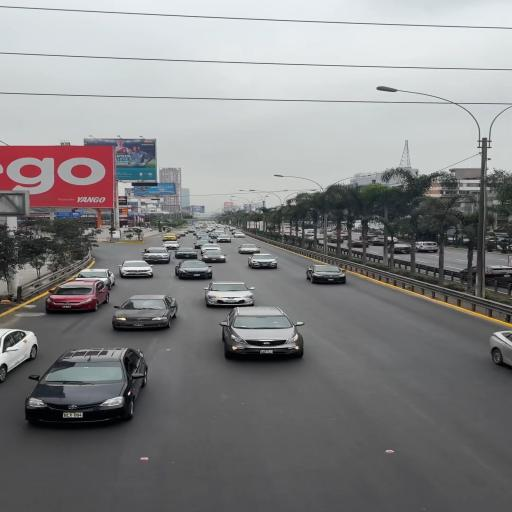auto: (24, 346, 148, 422), (217, 306, 302, 358), (111, 294, 179, 330), (44, 278, 111, 312), (0, 329, 38, 381), (202, 281, 256, 308), (458, 262, 512, 282), (488, 330, 512, 370), (305, 263, 347, 284), (74, 269, 116, 290), (173, 260, 214, 280), (118, 260, 155, 278), (246, 253, 278, 269), (140, 248, 172, 263), (199, 249, 227, 263), (174, 247, 200, 260), (413, 241, 439, 253), (238, 243, 262, 254), (199, 243, 222, 254), (161, 241, 181, 250), (162, 234, 178, 241), (216, 236, 232, 242)
